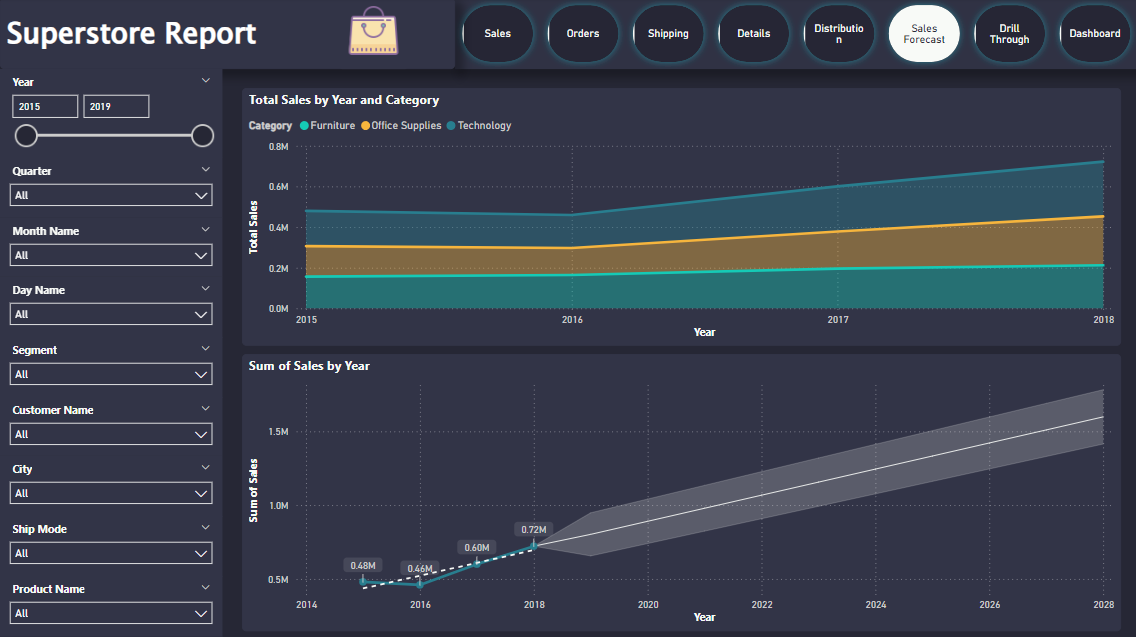

This screenshot's page, from the dashboard's own definition file:
{"tool":"powerbi","page":{"name":"Sales Forecast","canvas":[1280,720],"ordinal":5},"visuals":[{"type":"lineChart","fields":{"Category":["Dim_date.Year"],"Y":["Divide(Sum(Fact_Orders.Sales), ScopedEval(Sum(Fact_Orders.Sales), []))"]},"box":[272.2,400.5,988.9,311.6],"z":0},{"type":"pageNavigator","title":"dfsfsd","box":[512,0,768,80],"z":1000},{"type":"stackedAreaChart","fields":{"Series":["Dim_ProductDetails.Category"],"Y":["Dax Measure.Total Sales"],"Category":["Dim_date.Year Hierarchy.Year","Dim_date.Year Hierarchy.Month Name","Dim_date.Year Hierarchy.Day Name","Dim_date.Year Hierarchy.Day"]},"box":[272.2,101.2,988.9,290.2],"z":2000},{"type":"textbox","box":[0,0,511.9,79.9],"z":3000},{"type":"image","box":[380.2,0,79.9,79.9],"z":4000},{"type":"slicer","fields":{"Values":["Dim_date.Year"]},"box":[0,79.9,250,100],"z":4001},{"type":"slicer","fields":{"Values":["Dim_date.Quarter"]},"box":[0,180,250,67],"z":4002},{"type":"slicer","fields":{"Values":["Dim_date.Month Name"]},"box":[0,247.5,249.8,66.4],"z":4003},{"type":"slicer","fields":{"Values":["Dim_Customers.Segment"]},"box":[0,381.4,249.8,67.5],"z":4004},{"type":"slicer","fields":{"Values":["Dim_places.City"]},"box":[0,515.2,249.8,67.5],"z":4005},{"type":"slicer","fields":{"Values":["Dim_date.Day Name"]},"box":[0,313.9,249.8,67.5],"z":4006},{"type":"slicer","fields":{"Values":["Dim_Customers.Customer Name"]},"box":[0,448.9,249.8,66.4],"z":4007},{"type":"slicer","fields":{"Values":["Dim_ShipMode.Ship Mode"]},"box":[0,582.8,249.8,67.5],"z":4008},{"type":"slicer","fields":{"Values":["Dim_ProductDetails.Product Name"]},"box":[0,650.2,249.8,67.5],"z":4009}]}

Visuals, with their boxes in screenshot pixels (x1, y1, x2, y2), scaled from the page's 1280x720 canvas onto the 1136x637 screenshot:
lineChart - Dim_date.Year x Divide(Sum(Fact_Orders.Sales), ScopedEval(Sum(Fact_Orders.Sales), [])): detection(242, 354, 1119, 630)
"dfsfsd" pageNavigator: detection(454, 0, 1135, 71)
stackedAreaChart - Dim_ProductDetails.Category x Dax Measure.Total Sales: detection(242, 90, 1119, 346)
textbox: detection(0, 0, 454, 71)
image: detection(337, 0, 408, 71)
slicer - Dim_date.Year: detection(0, 71, 222, 159)
slicer - Dim_date.Quarter: detection(0, 159, 222, 219)
slicer - Dim_date.Month Name: detection(0, 219, 222, 278)
slicer - Dim_Customers.Segment: detection(0, 337, 222, 397)
slicer - Dim_places.City: detection(0, 456, 222, 516)
slicer - Dim_date.Day Name: detection(0, 278, 222, 337)
slicer - Dim_Customers.Customer Name: detection(0, 397, 222, 456)
slicer - Dim_ShipMode.Ship Mode: detection(0, 516, 222, 575)
slicer - Dim_ProductDetails.Product Name: detection(0, 575, 222, 635)
